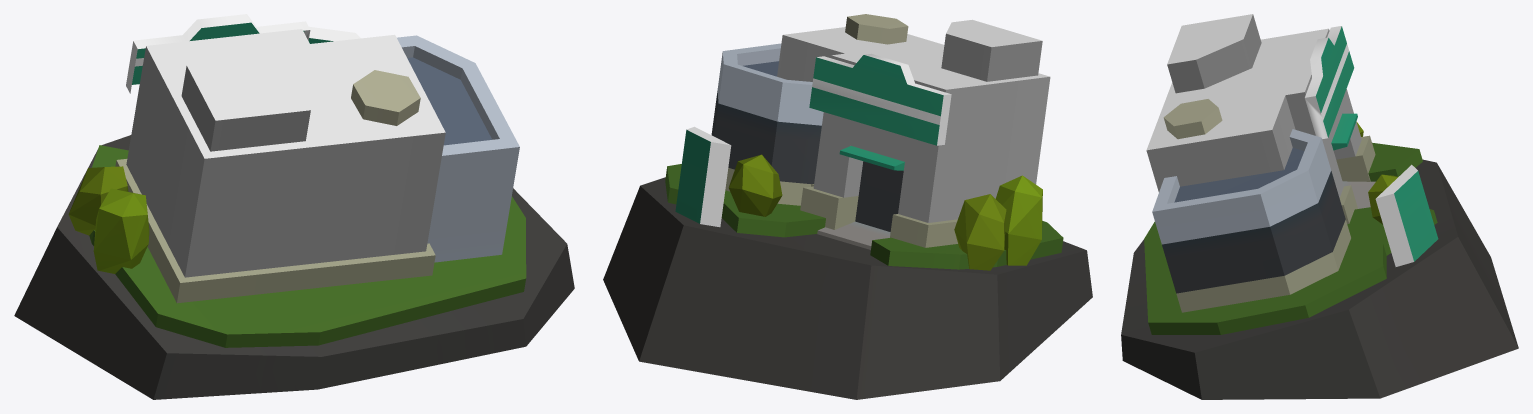
File: city_lv03_A.fbx
3 renders of one model, left to right at view 1: azimuth 30°, elevation 25°; view 2: azimuth 150°, elevation 25°; view 3: azimuth 270°, elevation 25°, orthographic. The views are drawn at different scales.
Parts seen in each view (by area): view 1: city_lv03_A; view 2: city_lv03_A; view 3: city_lv03_A.
Boxes of the visible parts, <box> form: city_lv03_A: <box>14,14,574,399</box>; city_lv03_A: <box>603,14,1092,399</box>; city_lv03_A: <box>1121,14,1518,399</box>.
Size of the model in its own units: 3435 by 2108 by 3162.
